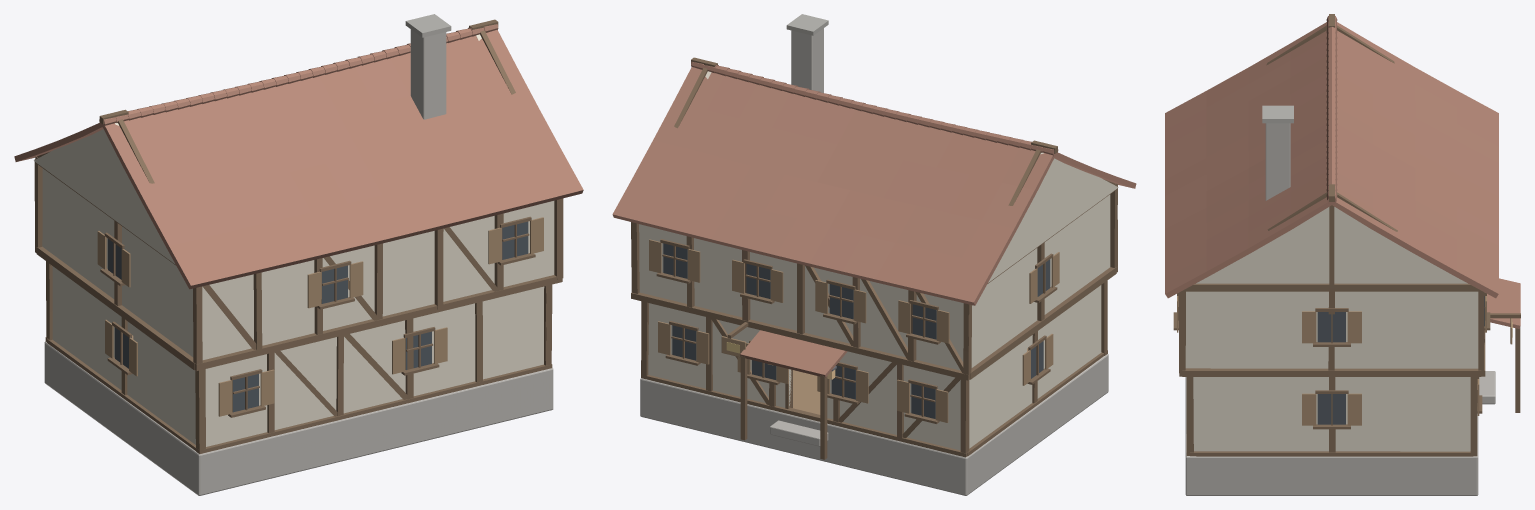
The model's file is inn.glb.
3 renders of one model, left to right at view 1: azimuth 30°, elevation 25°; view 2: azimuth 150°, elevation 25°; view 3: azimuth 270°, elevation 25°, orthographic. The views are drawn at different scales.
Visible parts, largest first — view 1: inn; view 2: inn; view 3: inn.
Part boxes in pixels (bbox=[...]): inn: bbox=[14, 14, 583, 495]; inn: bbox=[612, 14, 1136, 495]; inn: bbox=[1165, 14, 1520, 495].
Bounding box in the file's own units: 13.7 × 12.22 × 11.3.
